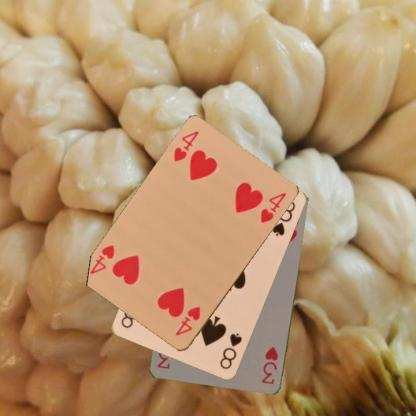3h: (258, 344, 280, 386)
4h: (171, 128, 201, 164), (172, 304, 202, 338)
8s: (217, 330, 244, 370)
